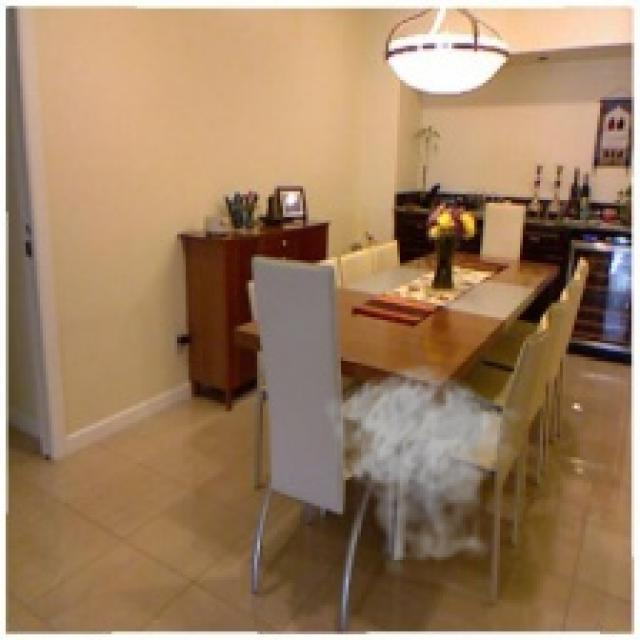smoke: (323, 363, 526, 577)
